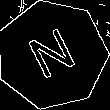N_SE: (23, 24, 82, 86)
